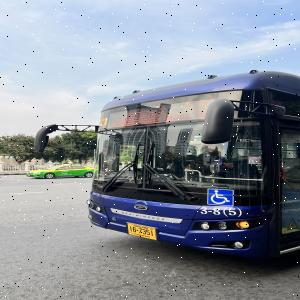Bus Line Number: (186, 97, 220, 121)
Bus Side Number: (198, 206, 245, 218)
Destination Sign: (106, 104, 186, 129)
TSB-Bus: (88, 71, 300, 261)
